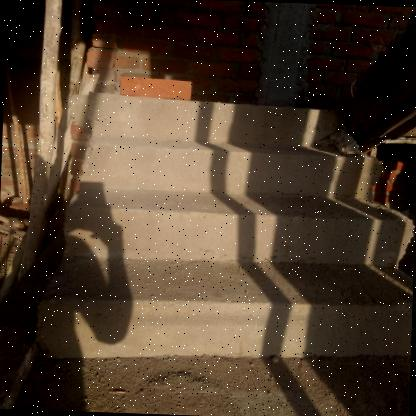stair: (33, 81, 416, 388)
